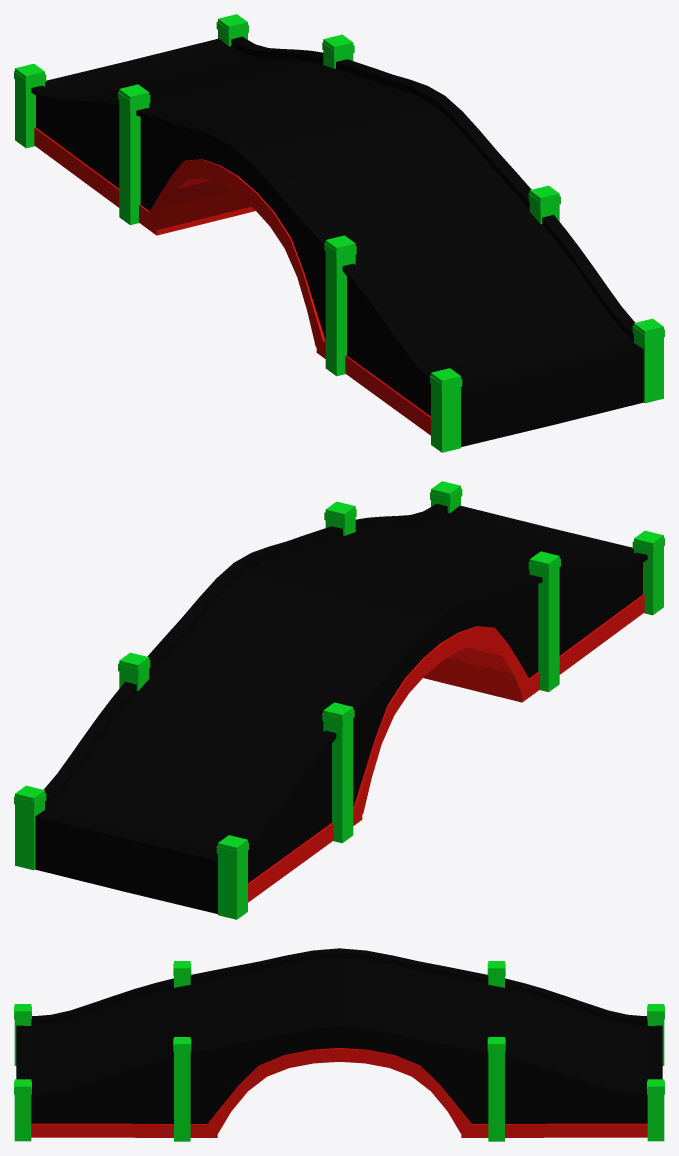
File: Bridge2_Mesh.fbx
The picture shows the model from 3 angles, top to bottom: view 1: azimuth 30°, elevation 25°; view 2: azimuth 150°, elevation 25°; view 3: azimuth 270°, elevation 25°; orthographic projection. The views are drawn at different scales.
Parts seen in each view (by area): view 1: Bridge2; view 2: Bridge2; view 3: Bridge2.
Part boxes in pixels (x1,y1,x2,y2): Bridge2: (14, 14, 664, 452); Bridge2: (14, 481, 664, 919); Bridge2: (14, 948, 664, 1141).
Bounding box in the file's own units: 2361 × 716 × 452.
